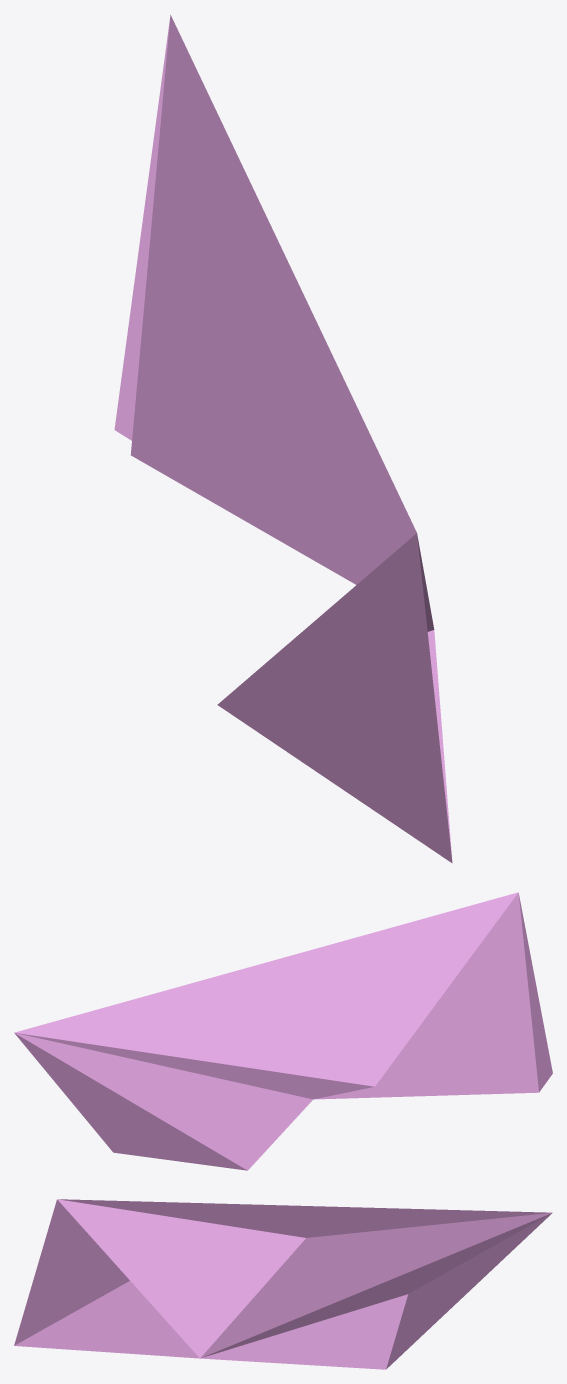
The model's file is TYPE13-1.glb.
3 renders of one model, top to bottom at view 1: azimuth 30°, elevation 25°; view 2: azimuth 150°, elevation 25°; view 3: azimuth 270°, elevation 25°, orthographic. The views are drawn at different scales.
Parts seen in each view (by area): view 1: TYPE13-1 (×4); view 2: TYPE13-1 (×6); view 3: TYPE13-1 (×8).
Boxes of the visible parts, x1,y1,x2,y2 form: TYPE13-1 (×4): (114,15,452,863); TYPE13-1 (×6): (14,892,552,1170); TYPE13-1 (×8): (14,1199,552,1369).
Size of the model in its own units: 3.08 by 3 by 7.47.
